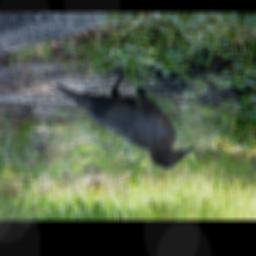Crow: (47, 67, 196, 172)
